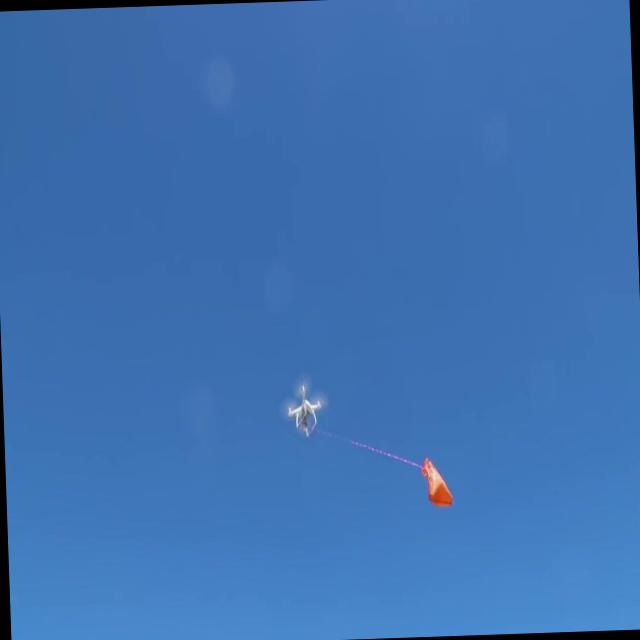drone: (284, 381, 324, 440)
